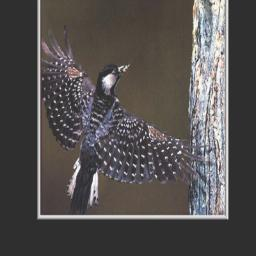Woodpecker: (41, 30, 209, 211)
